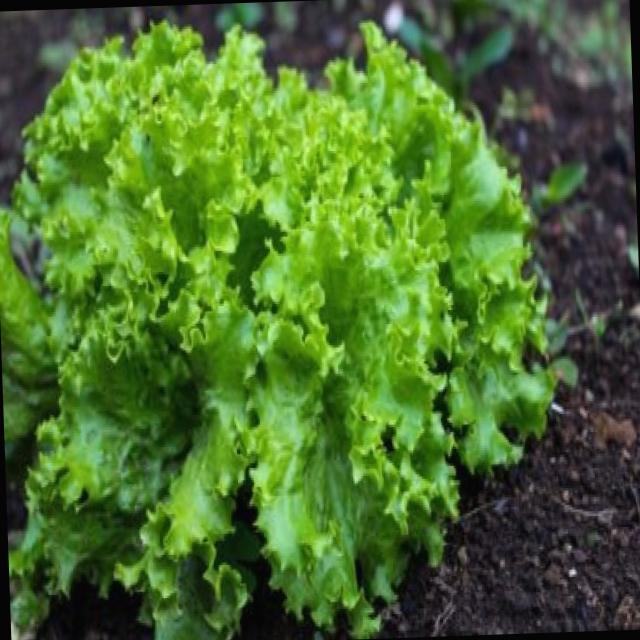lista_para_cosechar: (0, 22, 553, 640)
